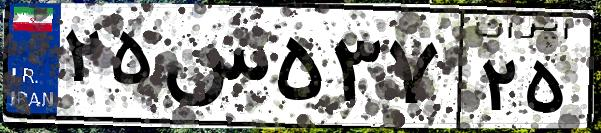2: (57, 26, 110, 100), (475, 38, 525, 113)
3: (330, 28, 385, 110)
5: (270, 28, 330, 110), (525, 38, 570, 115), (110, 28, 158, 98)
7: (385, 28, 445, 110)
س: (158, 20, 270, 120)
